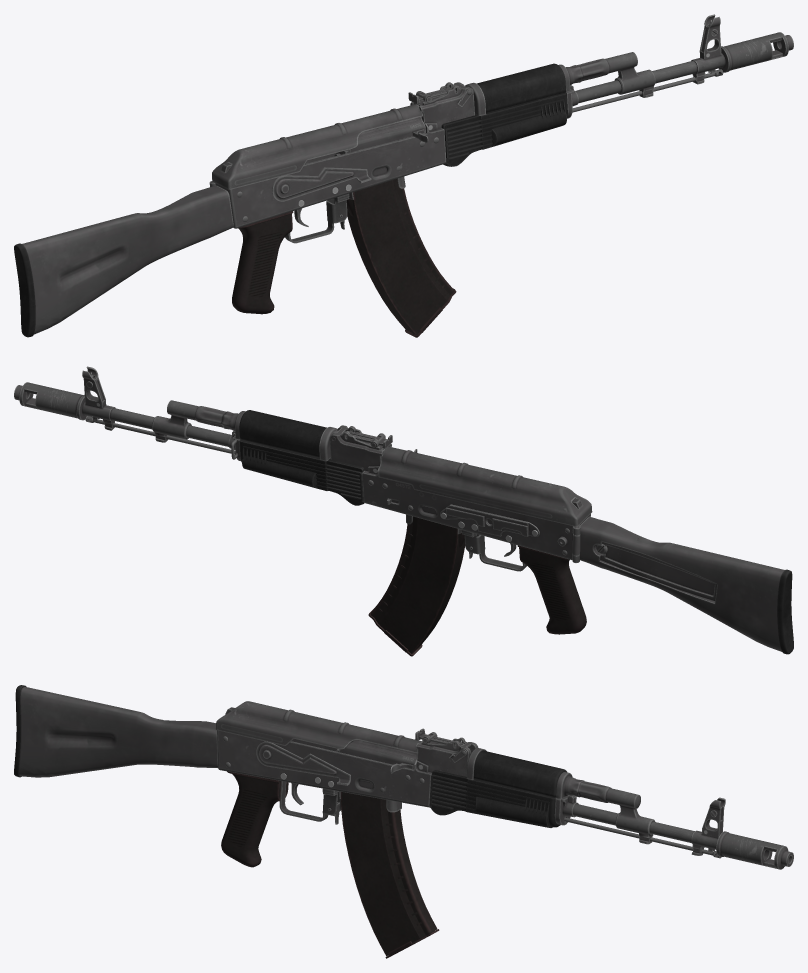
3 views of the same model, one above another, from view 1: azimuth 30°, elevation 25°; view 2: azimuth 150°, elevation 25°; view 3: azimuth 330°, elevation 25° (orthographic). The views are drawn at different scales.
Visible parts, largest first — view 1: Body, Magazine, Safety, Bolt; view 2: Body, Magazine; view 3: Body, Magazine, Safety, Bolt.
Part boxes in pixels (x1,y1,x2,y2): Body: [14, 14, 793, 337]; Magazine: [346, 179, 456, 337]; Safety: [272, 167, 371, 201]; Bolt: [334, 117, 428, 156]; Body: [14, 366, 793, 654]; Magazine: [368, 516, 465, 656]; Body: [14, 685, 793, 869]; Magazine: [339, 791, 439, 958]; Safety: [256, 741, 350, 785]; Bolt: [336, 740, 417, 773].
Size of the model in its own units: 0.9 by 0.2501 by 0.0668.
Materials: 1 (1 with a texture image).
